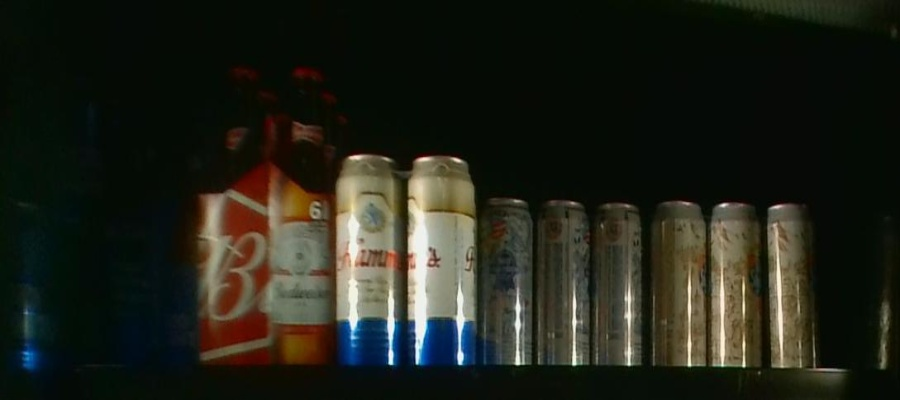bottle: (204, 66, 333, 367), (333, 150, 482, 369), (84, 92, 197, 369), (654, 200, 823, 369), (484, 194, 646, 366)
